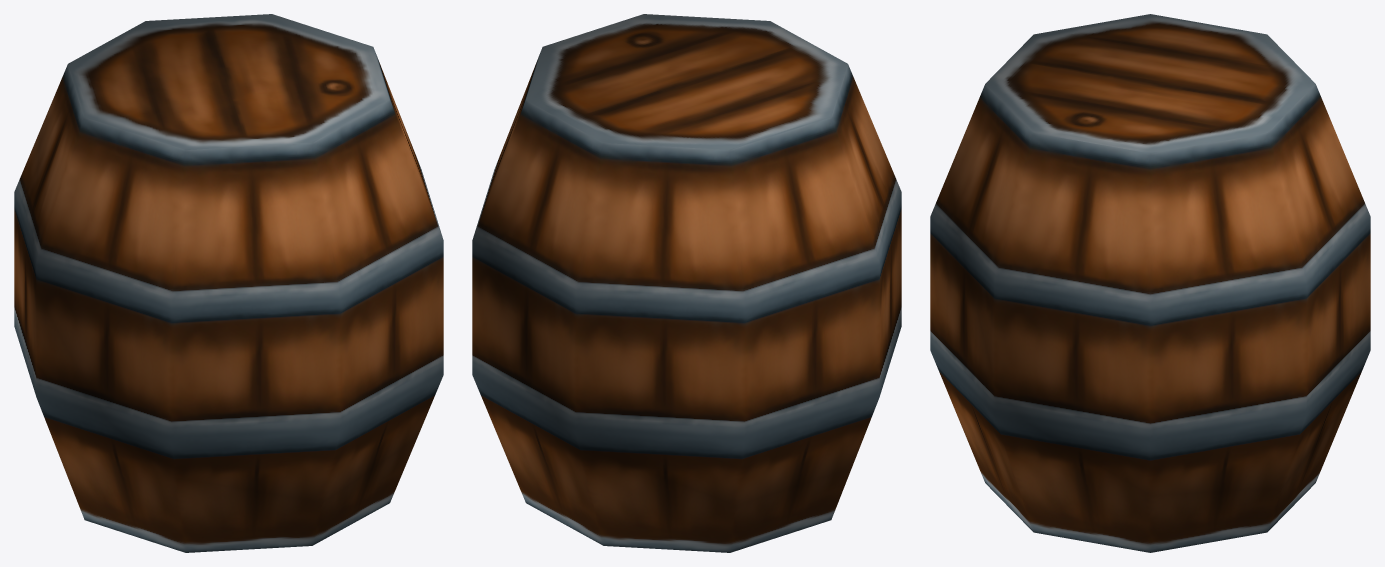
Rendered from Barile1.glb.
3 renders of one model, left to right at view 1: azimuth 30°, elevation 25°; view 2: azimuth 150°, elevation 25°; view 3: azimuth 270°, elevation 25°, orthographic.
Visible parts, largest first — view 1: Barile; view 2: Barile; view 3: Barile.
Boxes of the visible parts, left/top/right/bottom form: Barile: left=14, top=14, right=443, bottom=552; Barile: left=472, top=14, right=901, bottom=552; Barile: left=930, top=14, right=1370, bottom=552.
Bounding box in the file's own units: 2 × 2 × 2.
Materials: 1 (1 with a texture image).
